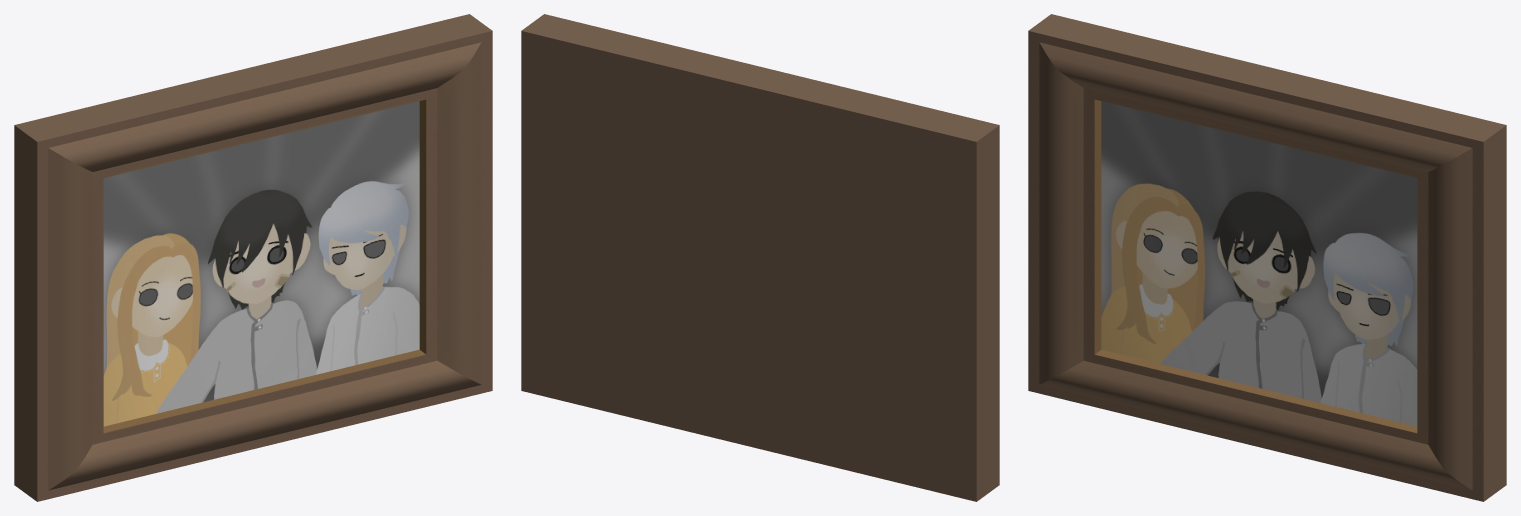
The model's file is SM_Clue_Picture.fbx.
The picture shows the model from 3 angles, left to right: view 1: azimuth 30°, elevation 25°; view 2: azimuth 150°, elevation 25°; view 3: azimuth 330°, elevation 25°; orthographic projection.
Parts seen in each view (by area): view 1: SM_prop_Stage1_Picture; view 2: SM_prop_Stage1_Picture; view 3: SM_prop_Stage1_Picture.
Boxes of the visible parts, x1,y1,x2,y2 form: SM_prop_Stage1_Picture: [14, 14, 492, 501]; SM_prop_Stage1_Picture: [521, 14, 999, 501]; SM_prop_Stage1_Picture: [1028, 14, 1506, 501].
Bounding box in the file's own units: 36.81 × 27.81 × 3.94.
1 material, 1 textured.
